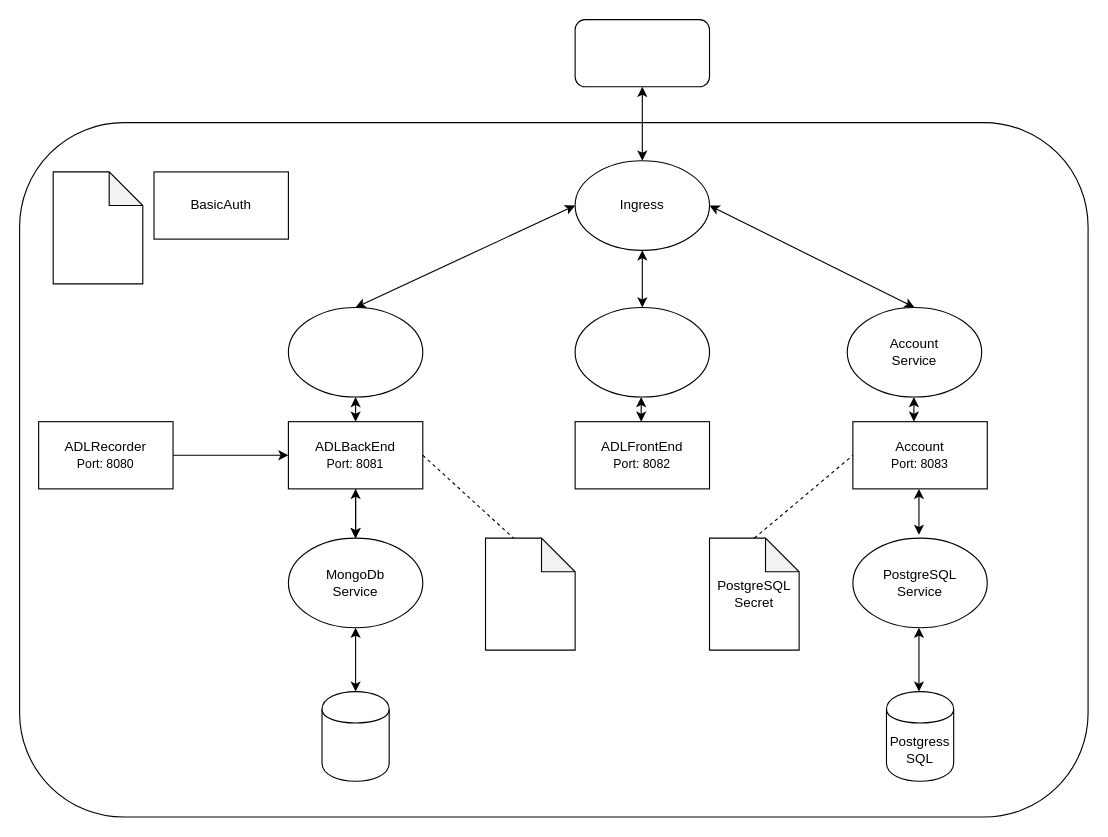
Some shapes in this 1108 by 837 pixel diagram are drawn without their labels. Each missing label, with the centre of its shape:
"ADLBackend Service" belongs at point 355,351.
"ADLFrontend Service" belongs at point 642,351.
"Docker Secret" belongs at point 97,227.
"HTML-Zugriff" belongs at point 642,52.
"MongoDb" belongs at point 355,735.
"MongoDB Secret" belongs at point 529,593.
